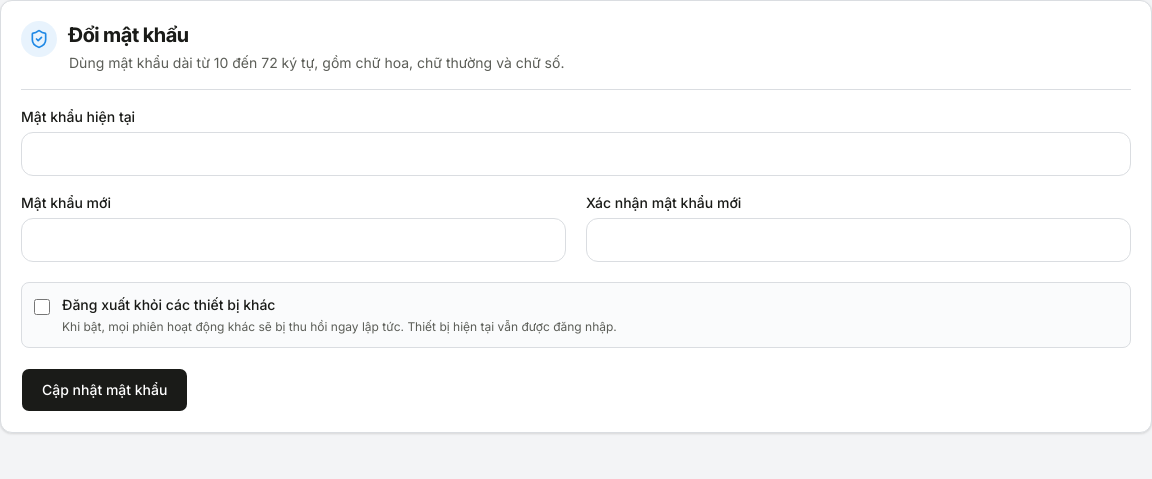
ChangePasswordForm › maps backend newPassword field errors inline
In the password field labelled "Mật khẩu hiện tại": (576, 154) top-left (21, 132), bottom-right (1131, 176), type "CurrentPass1"
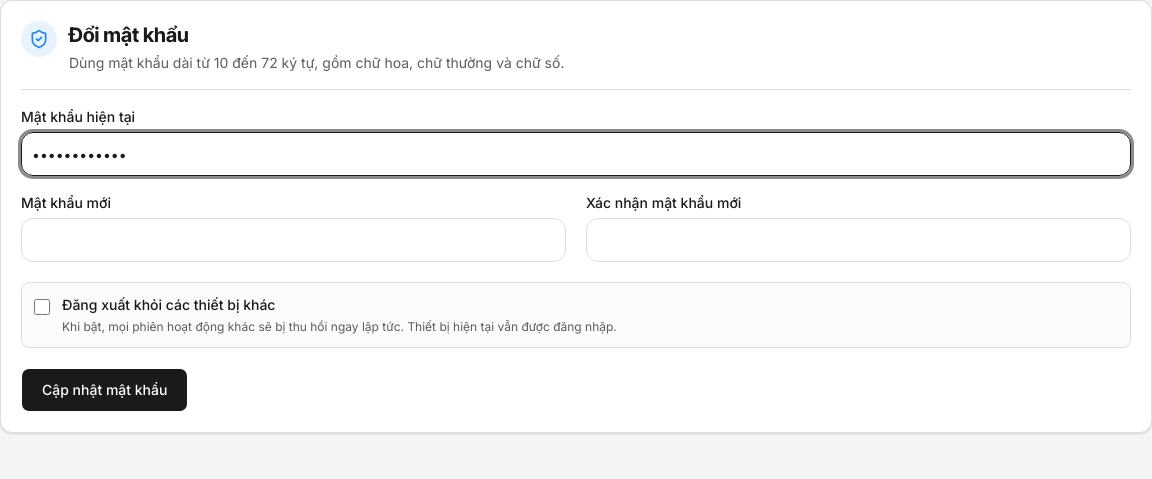
In the password field labelled "Mật khẩu mới": (294, 240) top-left (21, 218), bottom-right (566, 262), type "NewPassword1"
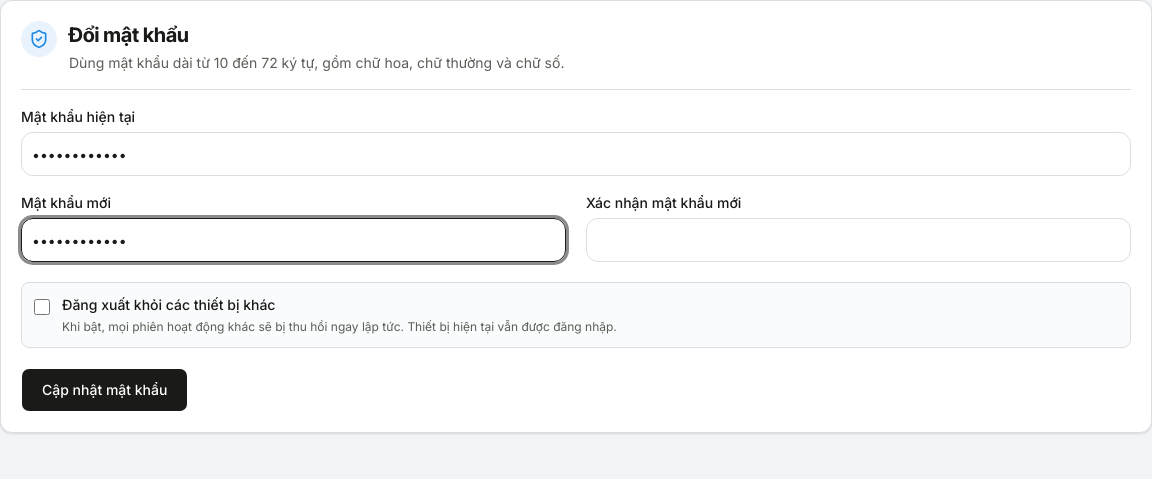
In the password field labelled "Xác nhận mật khẩu mới": (858, 240) top-left (586, 218), bottom-right (1131, 262), type "NewPassword1"
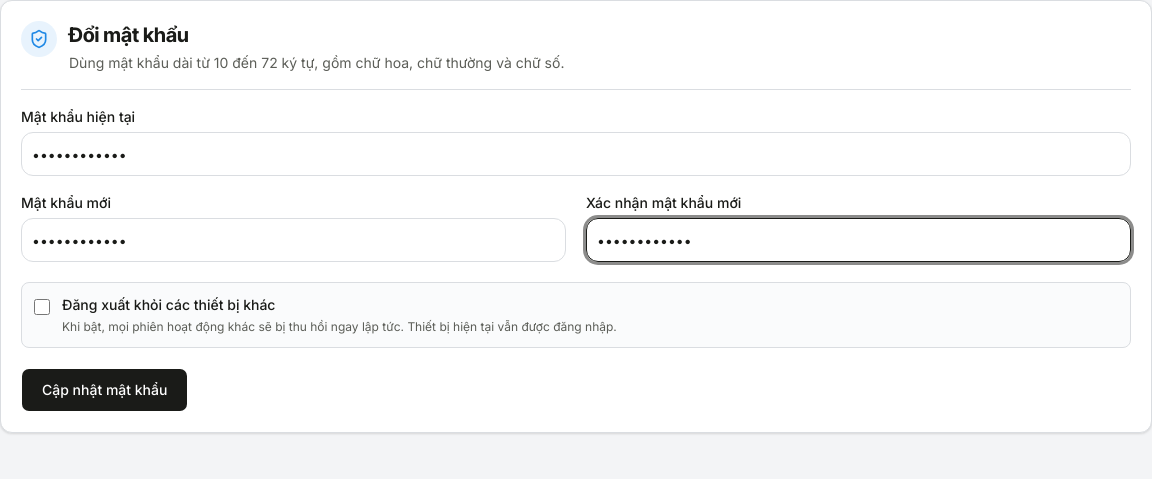
Click the button "Cập nhật mật khẩu": (105, 390) top-left (21, 368), bottom-right (188, 412)
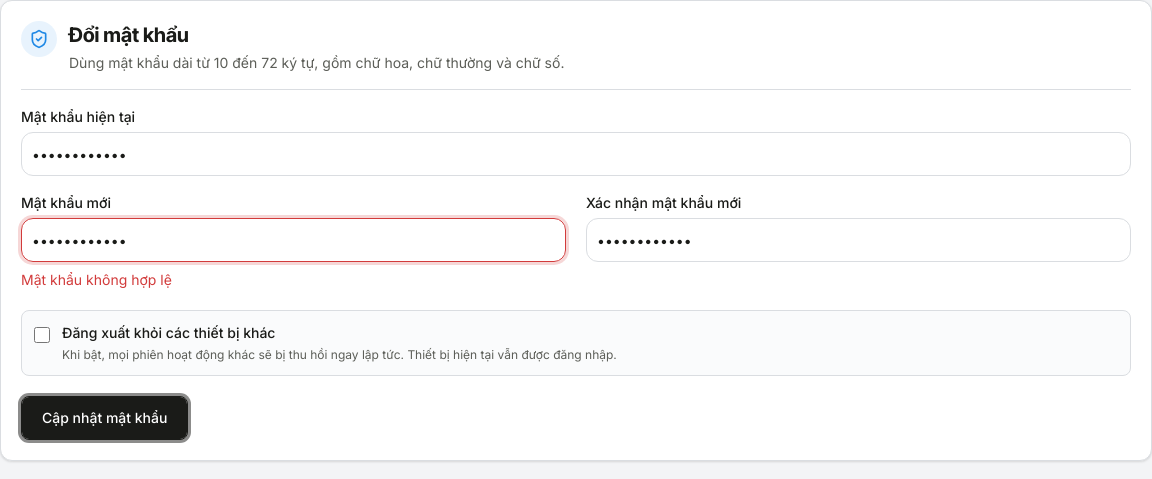
Check: the text "Mật khẩu không hợp lệ" is shown, box top-left (21, 271), bottom-right (172, 288)
